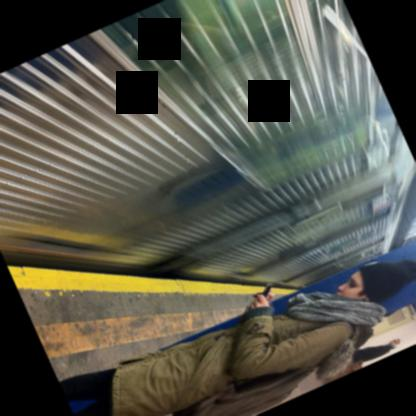backpack: (171, 322, 357, 416)
